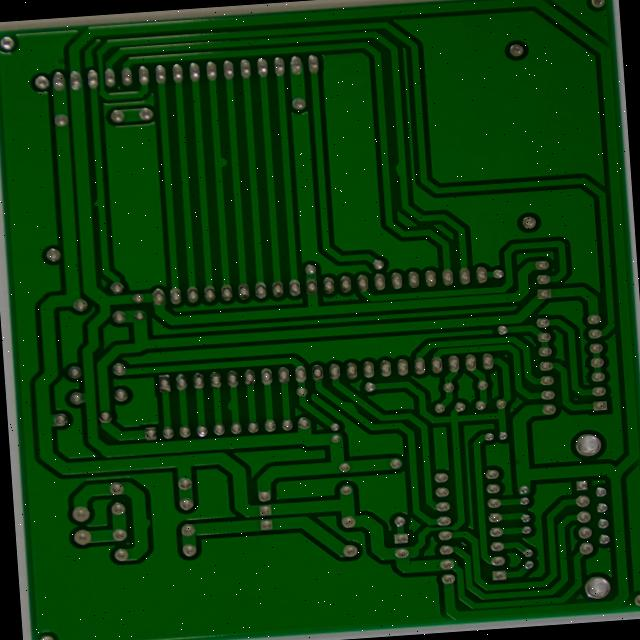spur: (375, 424, 405, 451), (234, 158, 260, 185), (249, 425, 269, 448), (100, 205, 120, 227), (152, 552, 171, 575)
